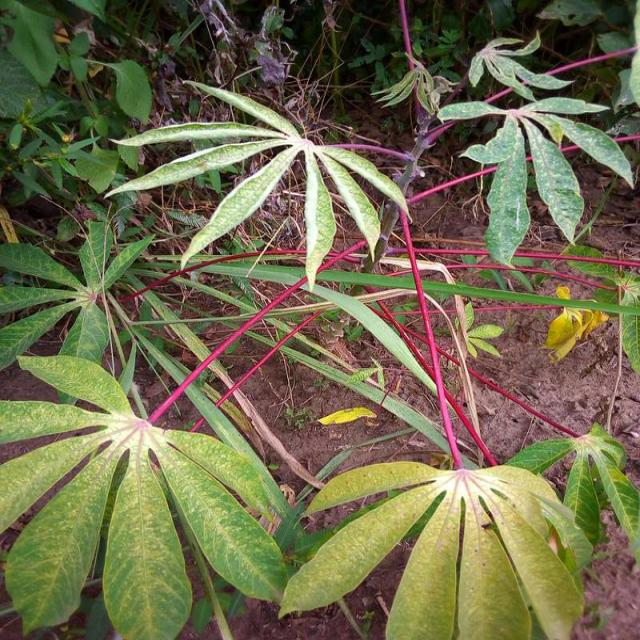cassava leaf: (0, 350, 290, 638), (104, 77, 413, 292), (277, 457, 592, 638)
